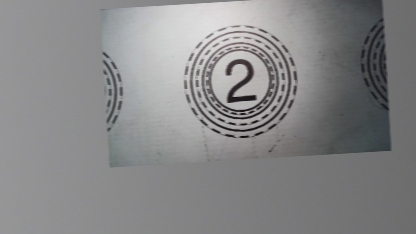2r: (178, 21, 301, 143)
